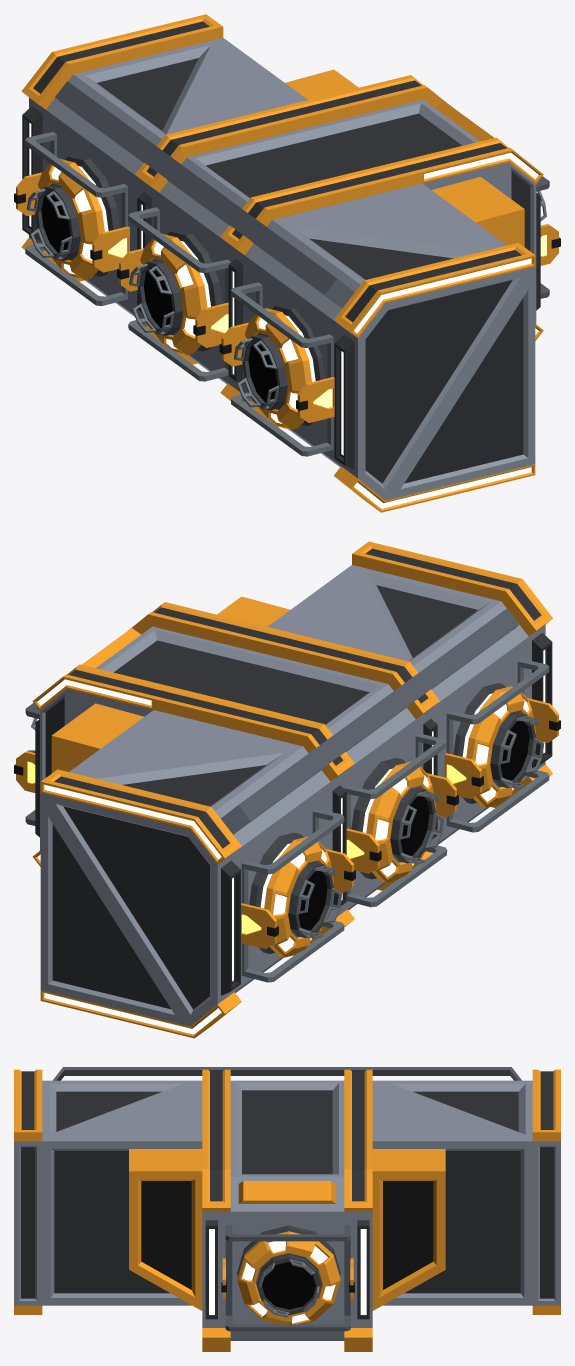
Rendered from SM_Pipe_splitter.glb.
3 views of the same model, one above another, from view 1: azimuth 30°, elevation 25°; view 2: azimuth 150°, elevation 25°; view 3: azimuth 270°, elevation 25° (orthographic). The views are drawn at different scales.
Visible parts, largest first — view 1: SM_Pipe_splitter; view 2: SM_Pipe_splitter; view 3: SM_Pipe_splitter.
Boxes of the visible parts, x1,y1,x2,y2 form: SM_Pipe_splitter: [14, 14, 560, 512]; SM_Pipe_splitter: [14, 541, 560, 1038]; SM_Pipe_splitter: [14, 1067, 560, 1351].
Size of the model in its own units: 4.31 by 2.37 by 6.43.
3 materials, 1 textured.
